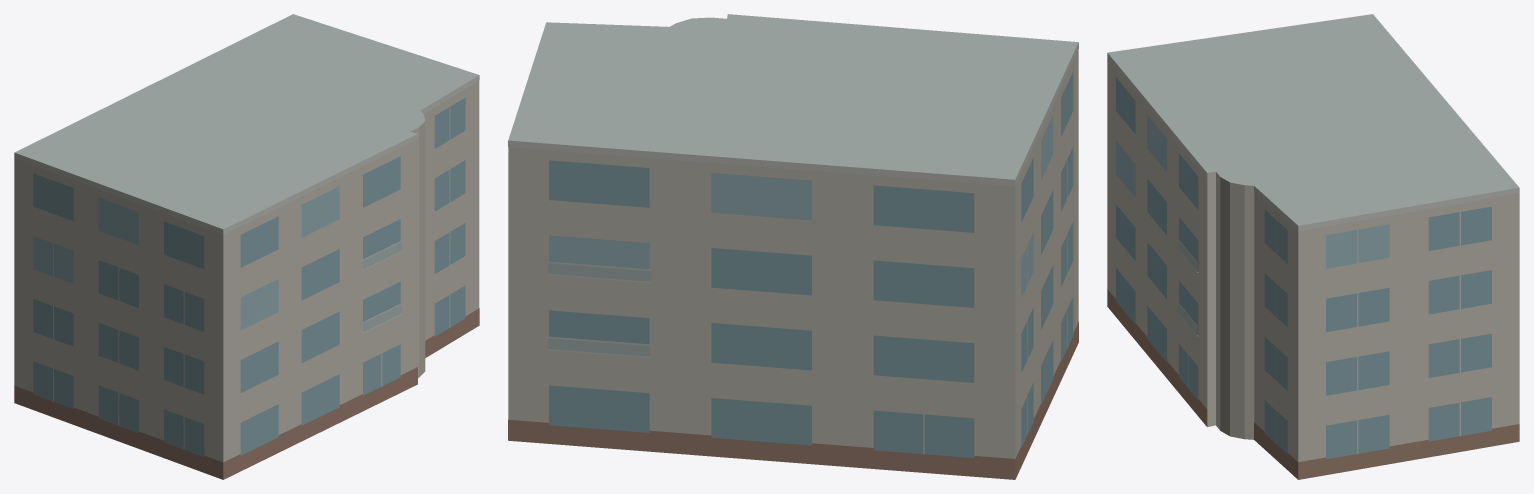
File: survey-upis-32486868.glb
3 renders of one model, left to right at view 1: azimuth 30°, elevation 25°; view 2: azimuth 150°, elevation 25°; view 3: azimuth 270°, elevation 25°, orthographic. The views are drawn at different scales.
Parts seen in each view (by area): view 1: survey-upis-32486868.tmp; view 2: survey-upis-32486868.tmp; view 3: survey-upis-32486868.tmp.
Part boxes in pixels (x1,y1,x2,y2): survey-upis-32486868.tmp: [14, 14, 479, 479]; survey-upis-32486868.tmp: [508, 14, 1078, 479]; survey-upis-32486868.tmp: [1107, 14, 1519, 479].
Size of the model in its own units: 20.05 by 11.2 by 16.48.
